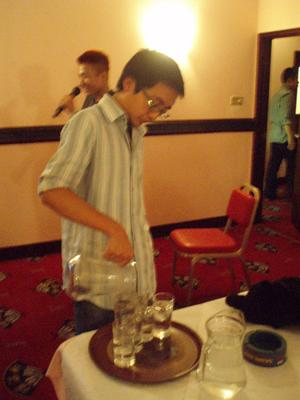person: (38, 49, 186, 337)
